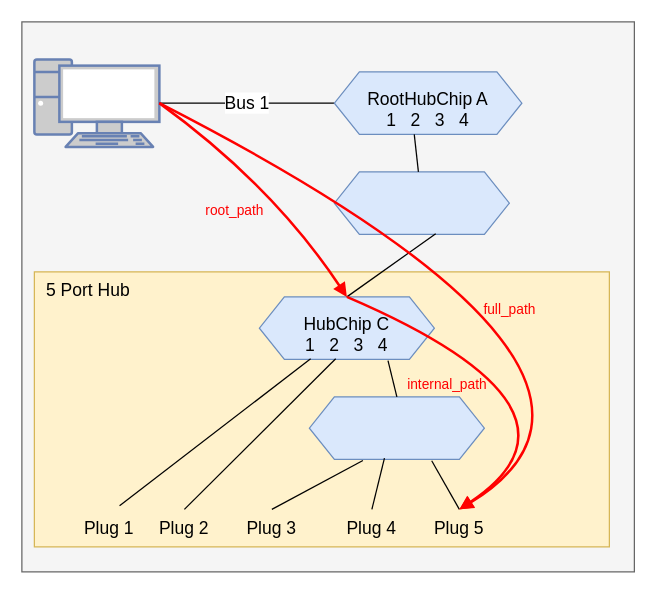
This 656x594 diagram has some shape labels left out. Each missing label, with the centre of its shape:
"HubChip B 1 2 3 4" goes at pixel 421 202.
"HubChip D 1 2 3 4" goes at pixel 396 427.
